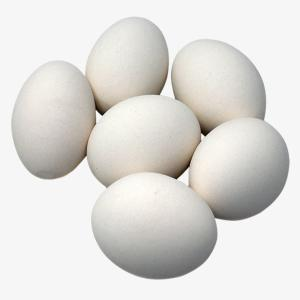Egg: (89, 170, 219, 282), (84, 94, 202, 188), (188, 117, 290, 222), (12, 58, 96, 181), (170, 38, 267, 138), (84, 16, 170, 116)
